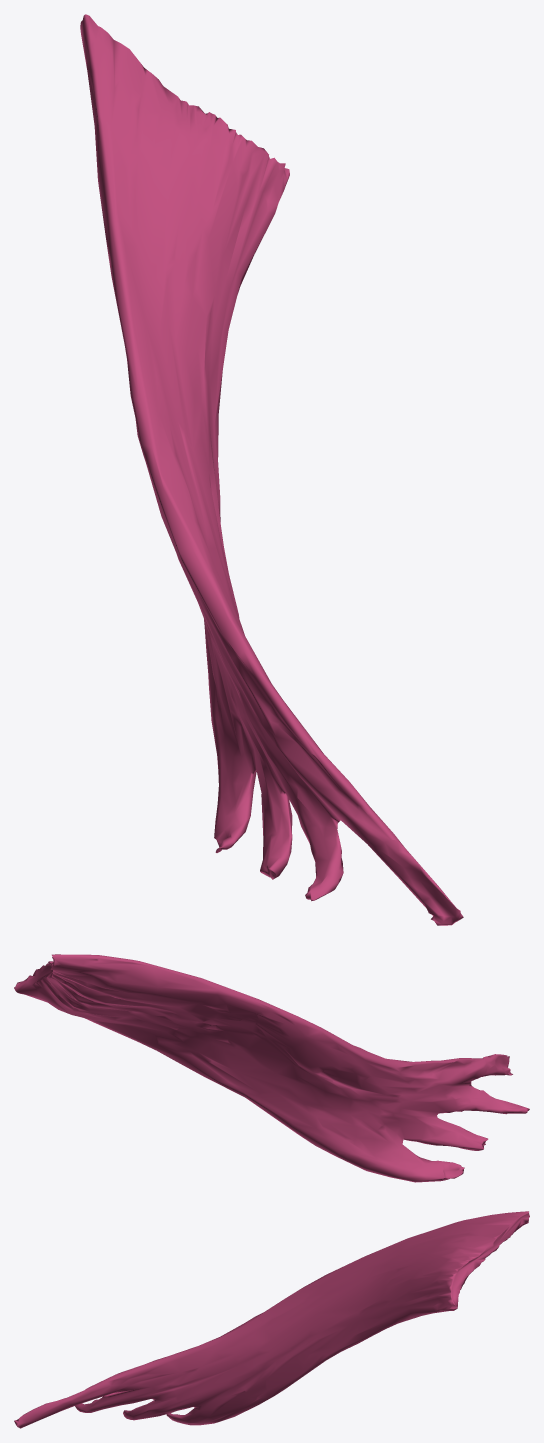
3 views of the same model, one above another, from view 1: azimuth 30°, elevation 25°; view 2: azimuth 150°, elevation 25°; view 3: azimuth 270°, elevation 25° (orthographic). The views are drawn at different scales.
Parts seen in each view (by area): view 1: 左侧肩胛提肌; view 2: 左侧肩胛提肌; view 3: 左侧肩胛提肌.
Part boxes in pixels (bbox=[...]): 左侧肩胛提肌: bbox=[80, 14, 463, 925]; 左侧肩胛提肌: bbox=[14, 954, 529, 1182]; 左侧肩胛提肌: bbox=[14, 1211, 529, 1428].
Size of the model in its own units: 0.0905 by 0.1265 by 0.2252.
